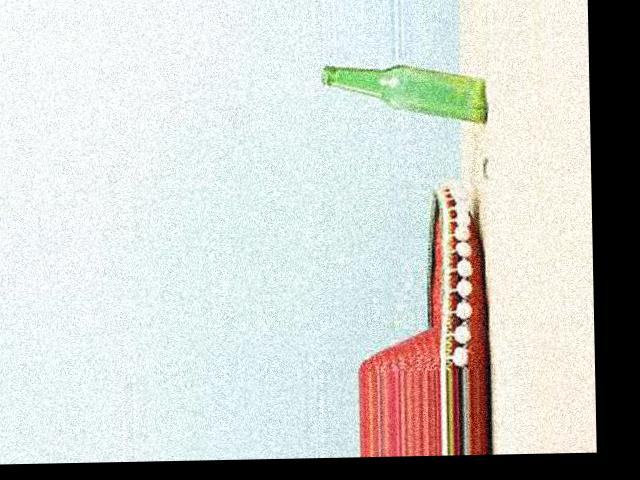beer: (321, 64, 492, 127)
